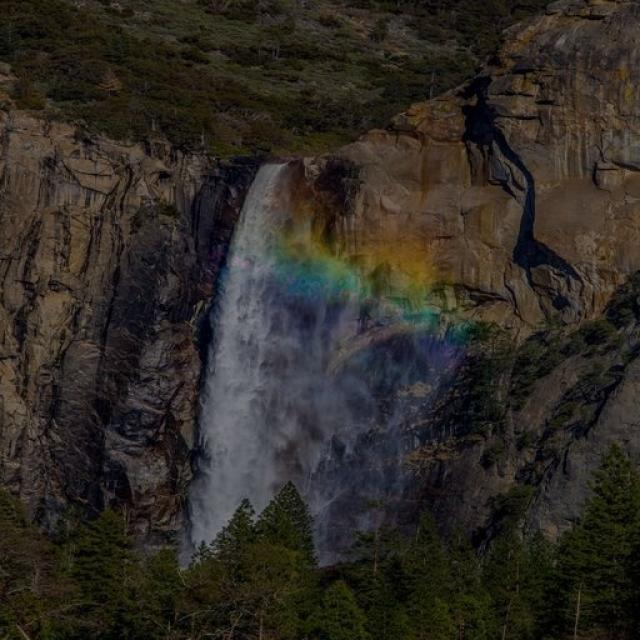watermark: (197, 242, 417, 321)
